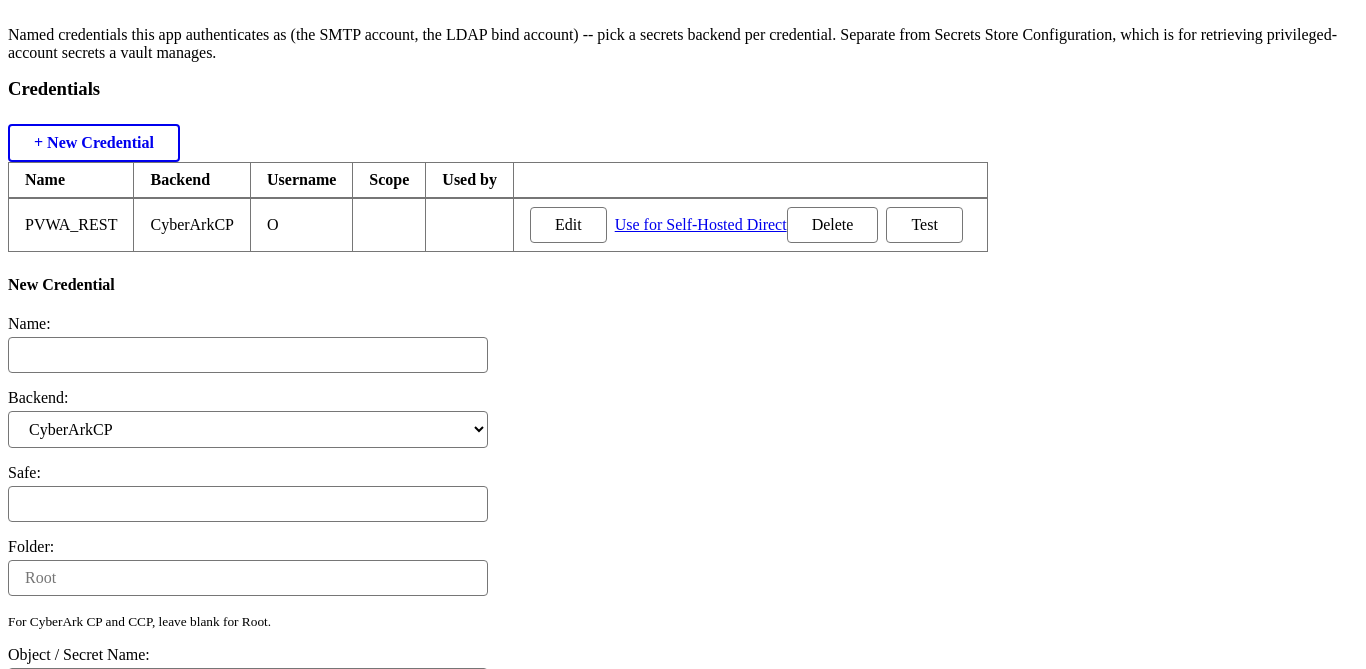
Test: Credentials.vue › shows the API's reason when a save is refused
In the field labelled "Name:": (248, 355) [8, 337, 488, 373], type "PVWA_REST"
(page scrolled)
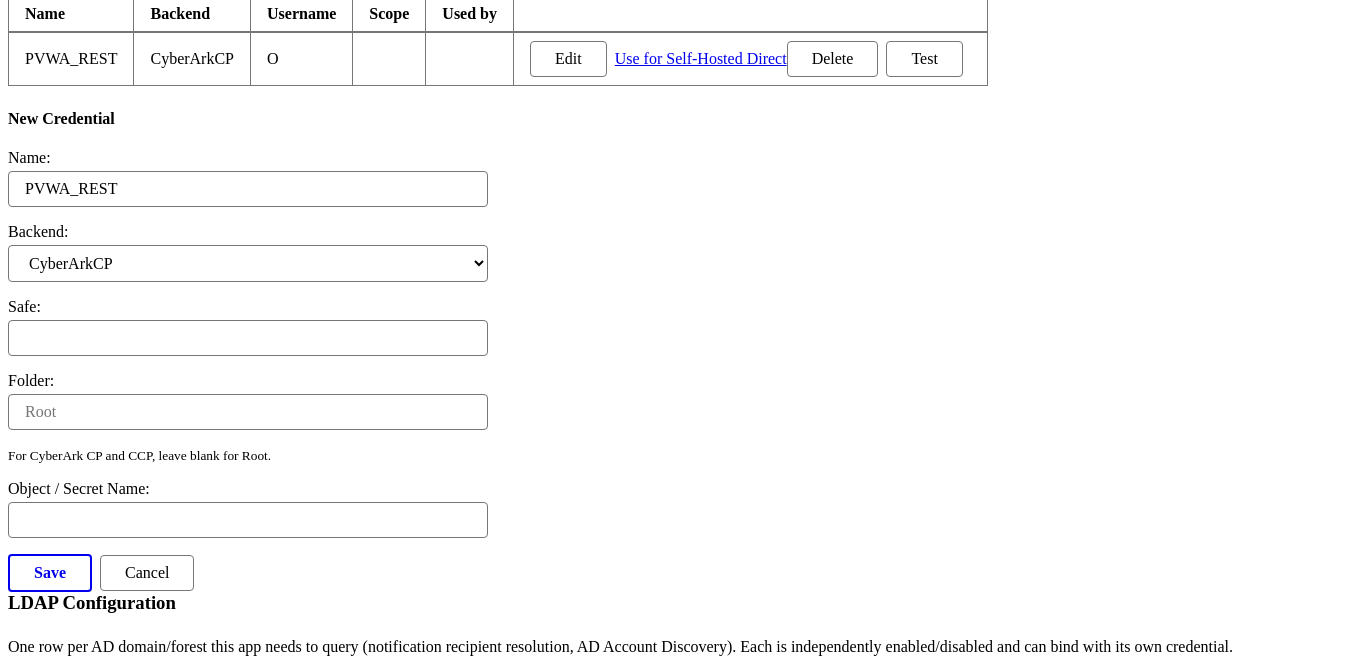
Submit the form, box [8, 110, 488, 592]
(page scrolled)
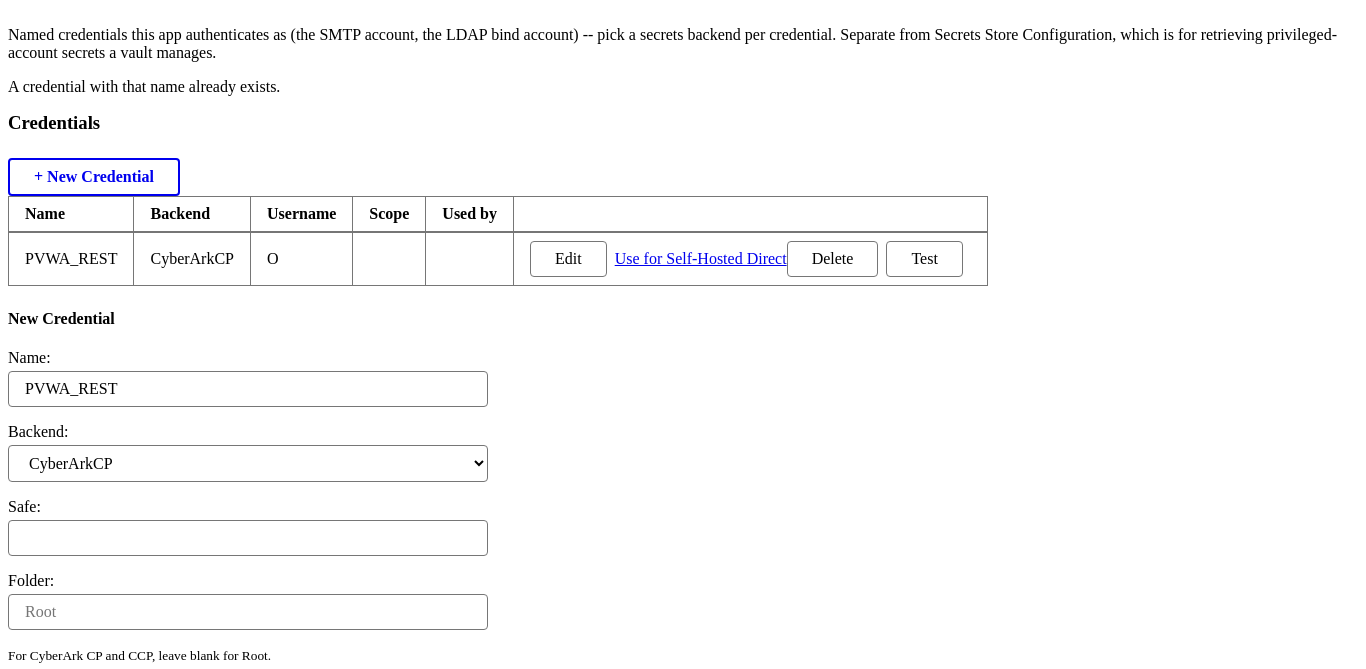
Expected: the message "A credential with that name already exists." is shown, [8, 78, 280, 95]
